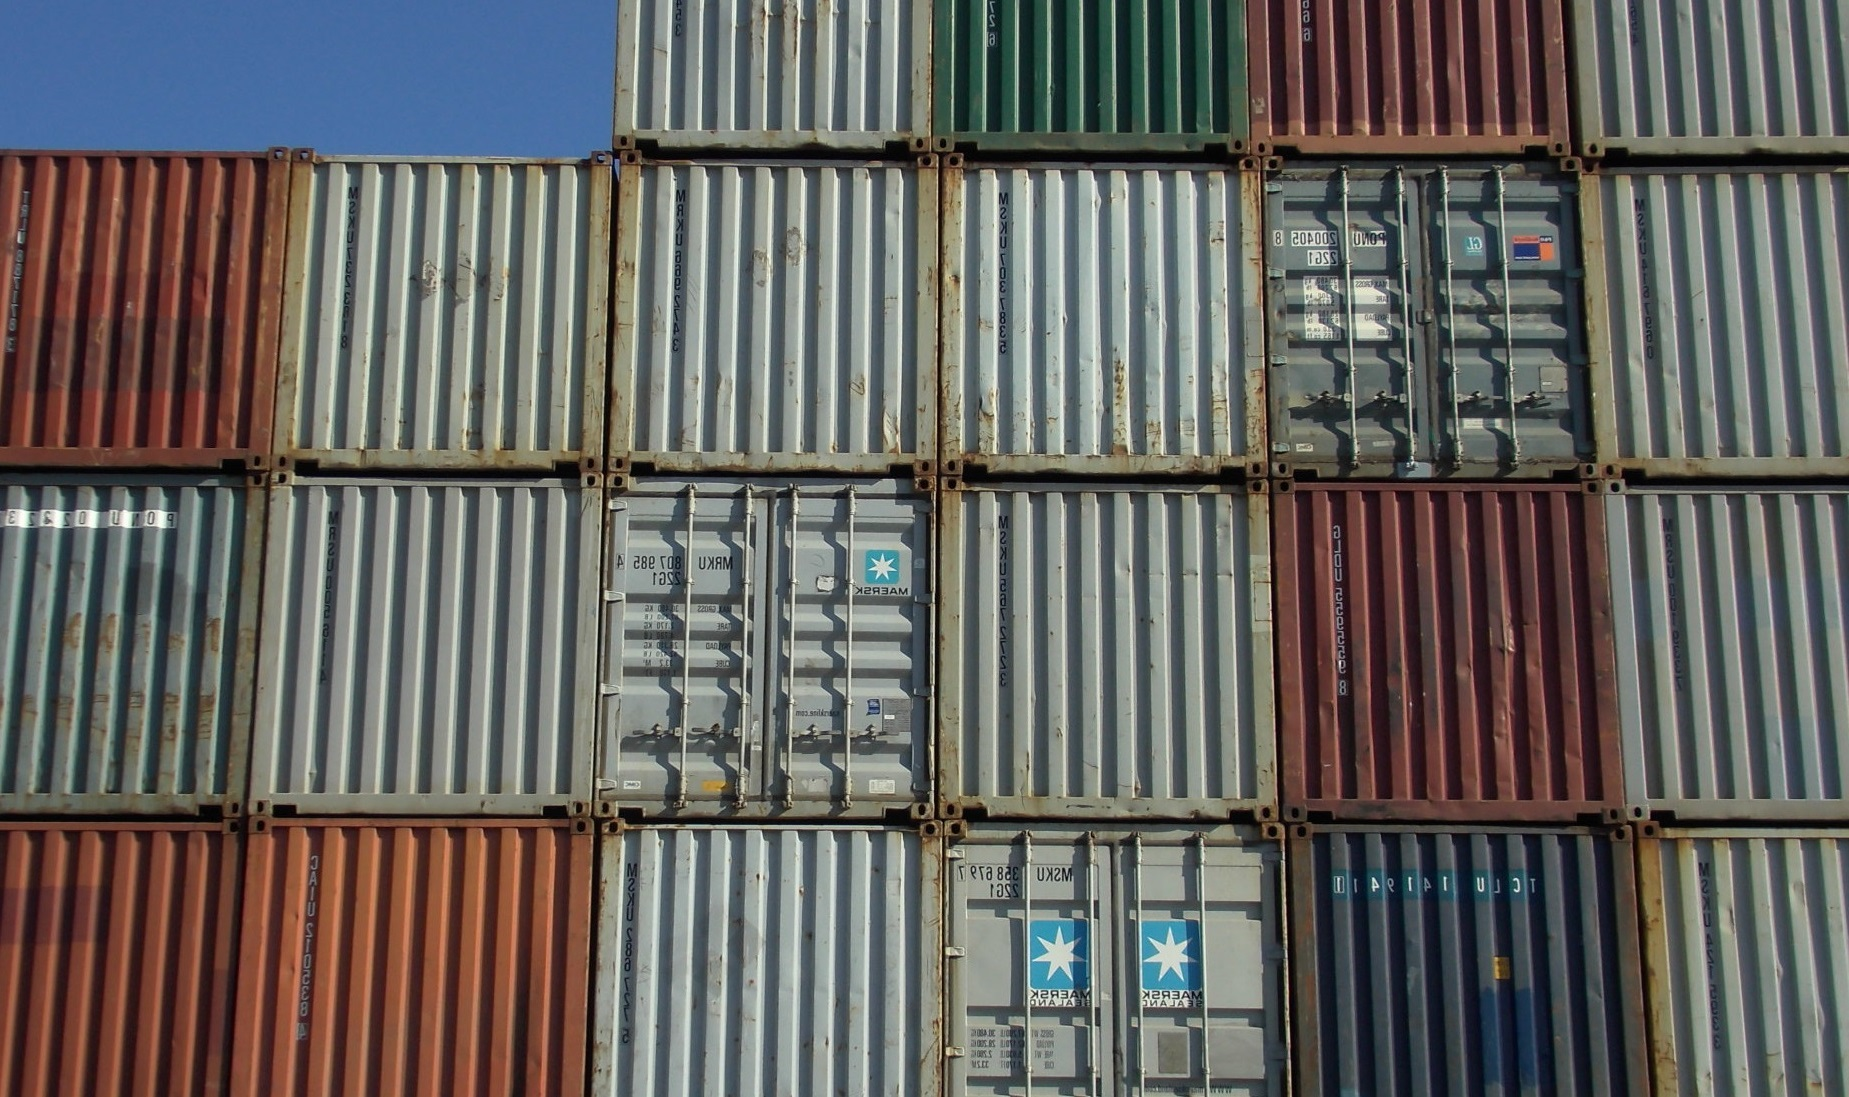container_door: (1265, 159, 1605, 486), (598, 487, 938, 814), (940, 832, 1278, 1097)
container_no_door: (1278, 488, 1620, 831), (259, 477, 599, 818), (927, 486, 1268, 827), (285, 142, 608, 464), (608, 155, 930, 478), (936, 154, 1257, 475), (598, 824, 941, 1097), (249, 824, 593, 1097), (1295, 824, 1637, 1097), (1, 142, 283, 470), (1, 478, 259, 816), (1587, 155, 1849, 478), (1624, 481, 1849, 821), (1, 824, 245, 1097), (1635, 824, 1849, 1096), (601, 1, 935, 142), (939, 1, 1251, 151), (1261, 1, 1573, 151), (1577, 1, 1849, 155)
